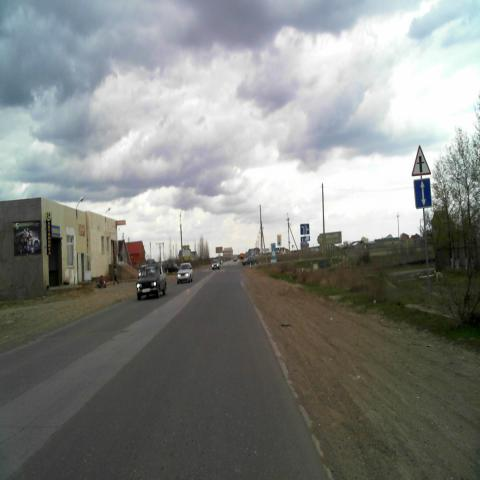5_8: (413, 177, 432, 210)
